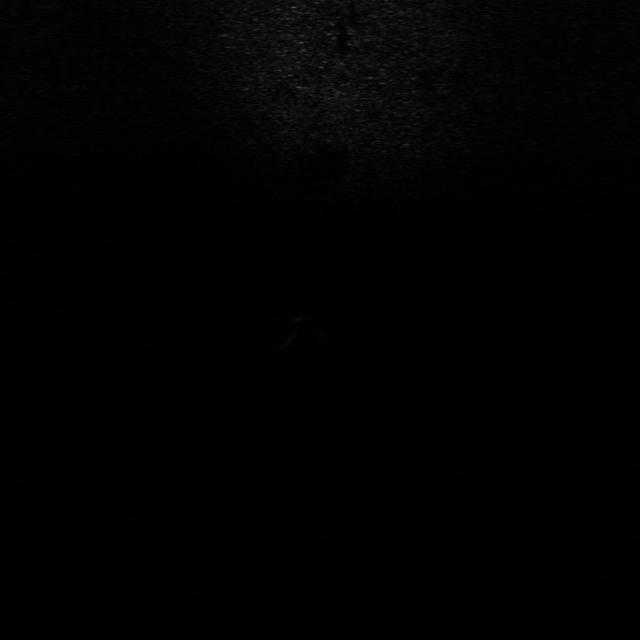human body: (280, 311, 340, 351)
